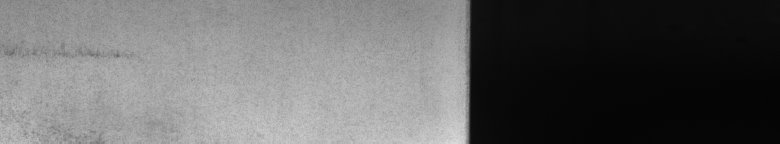ib: (4, 44, 139, 136)
